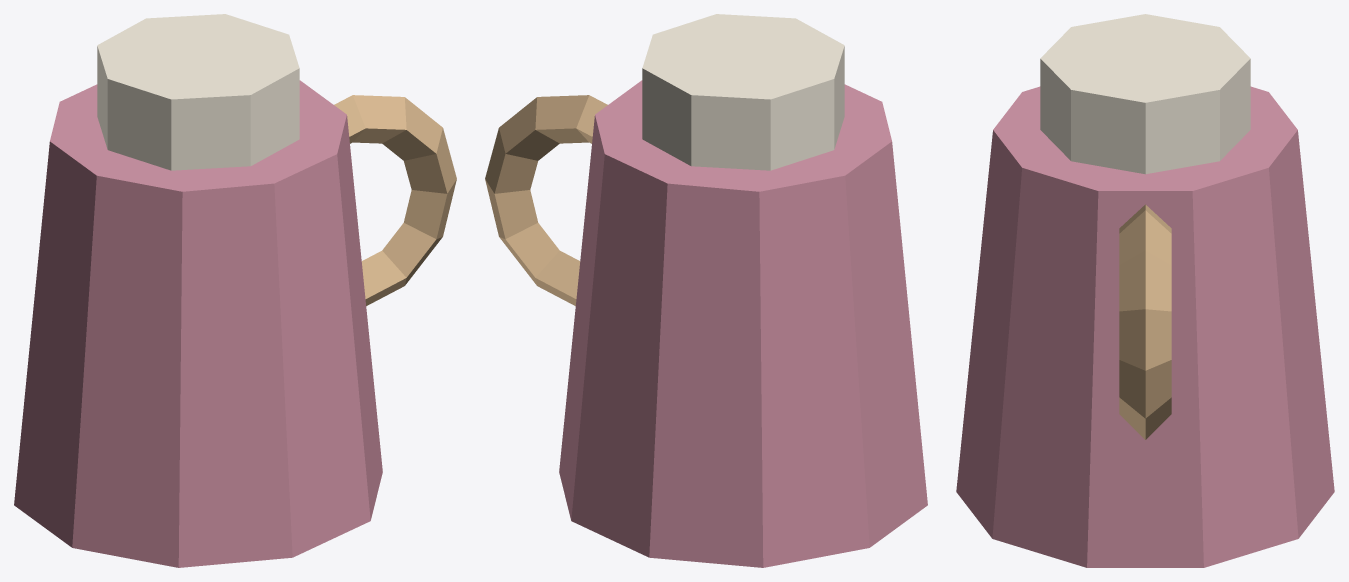
File: cargo_preserves.fbx
3 renders of one model, left to right at view 1: azimuth 30°, elevation 25°; view 2: azimuth 150°, elevation 25°; view 3: azimuth 270°, elevation 25°, orthographic.
Visible parts, largest first — view 1: cargo_preserves_mesh; view 2: cargo_preserves_mesh; view 3: cargo_preserves_mesh.
Part boxes in pixels (left/top/right/bottom): cargo_preserves_mesh: left=14, top=14, right=456, bottom=567; cargo_preserves_mesh: left=485, top=14, right=927, bottom=567; cargo_preserves_mesh: left=956, top=14, right=1334, bottom=567.
Bounding box in the file's own units: 0.4562 × 0.455 × 0.36.
